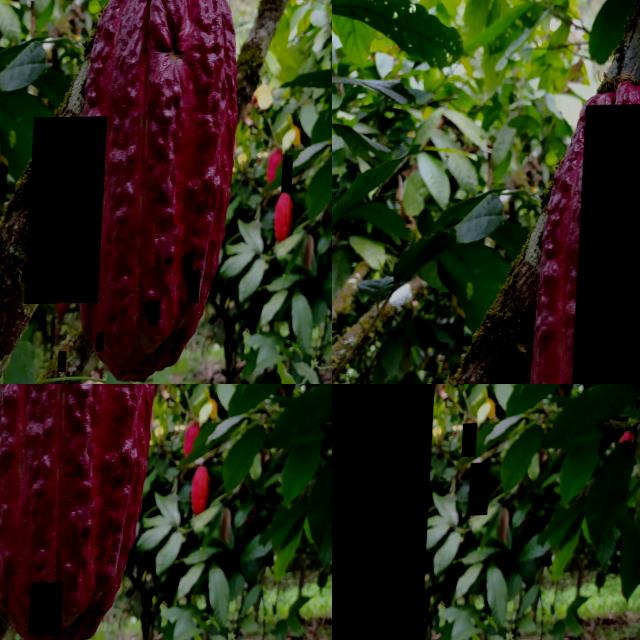Fitoftora: (574, 104, 640, 384)
Sana: (332, 384, 445, 640), (30, 118, 111, 305), (35, 584, 69, 637), (474, 465, 494, 517), (142, 224, 160, 268), (466, 425, 480, 459), (192, 272, 205, 304), (286, 158, 297, 194), (154, 302, 165, 328), (188, 256, 199, 280), (64, 353, 72, 373), (102, 333, 110, 352), (0, 286, 3, 325), (150, 304, 156, 320)
